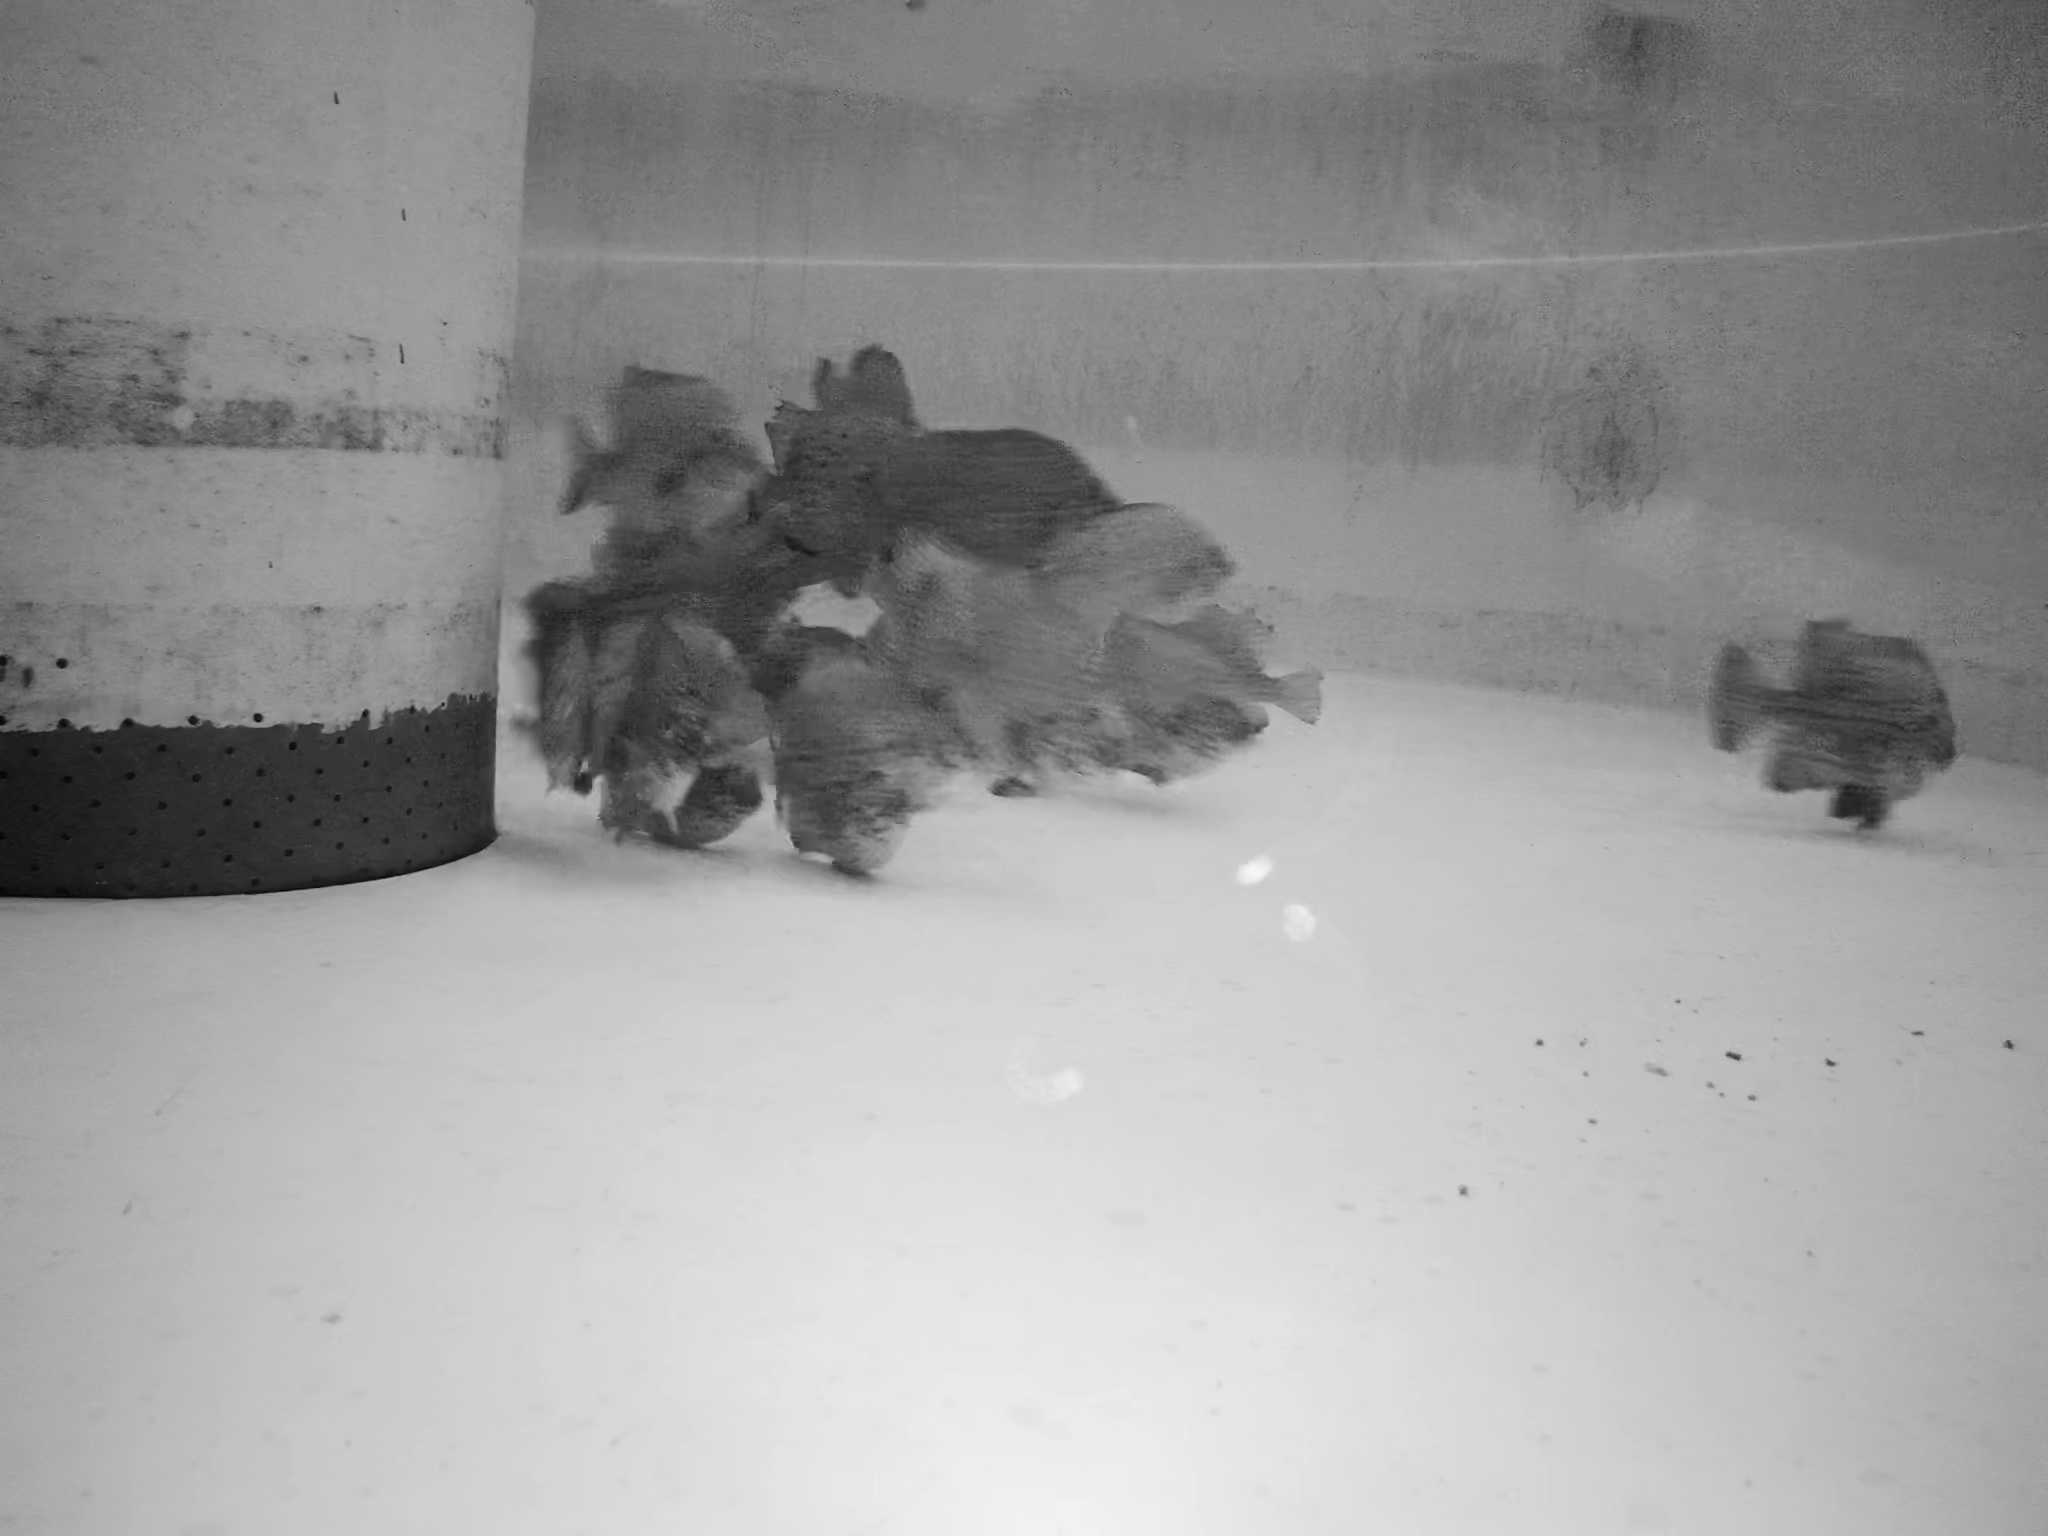fish: (1708, 607, 1958, 828), (553, 361, 769, 545), (887, 426, 1130, 574), (871, 579, 1101, 729), (518, 579, 750, 721), (780, 653, 982, 795), (1032, 495, 1242, 624), (1103, 613, 1329, 724), (769, 405, 877, 592), (751, 615, 874, 708), (785, 786, 903, 876), (669, 753, 769, 847), (531, 629, 593, 778), (637, 634, 697, 776), (810, 349, 914, 426), (608, 742, 651, 849)
